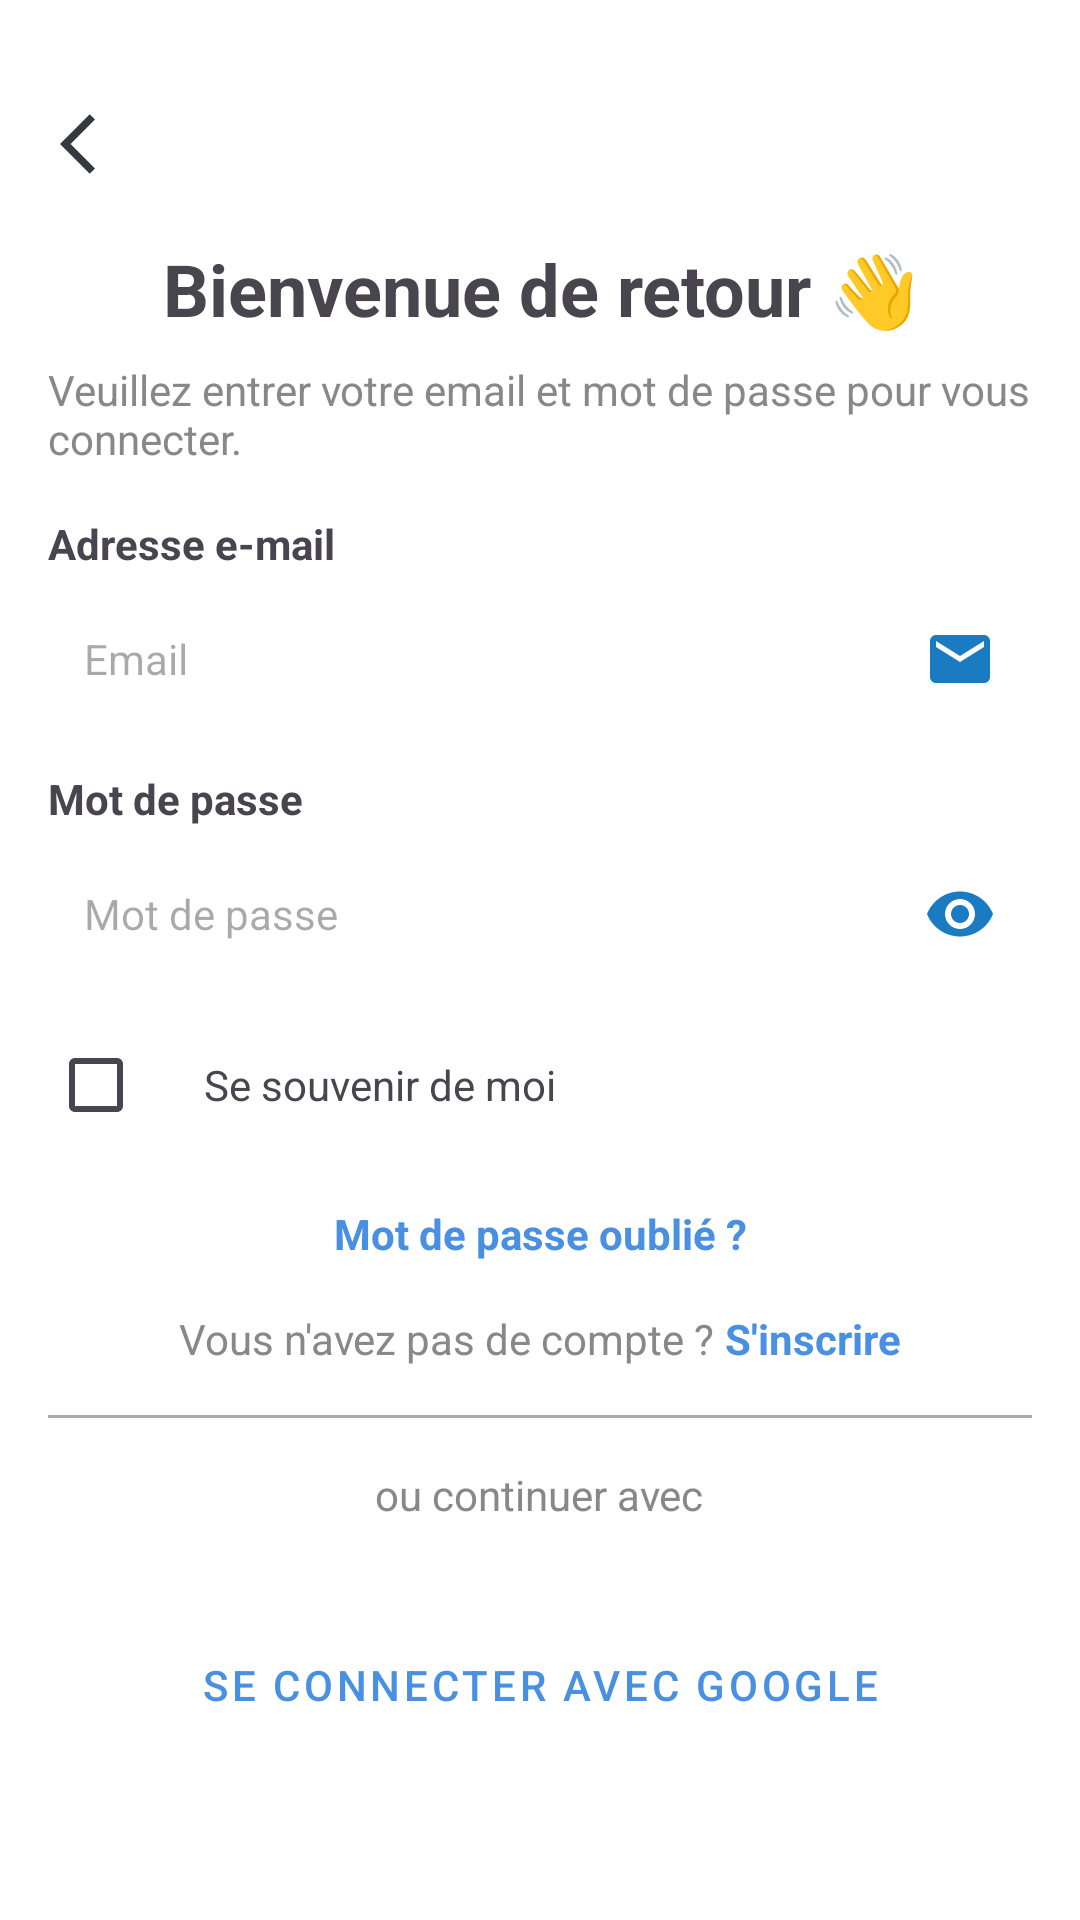

Where to tap for icons on this 1080×1920 app screen, as point (x, y):
back: point (77, 144)
eye: point (960, 914)
